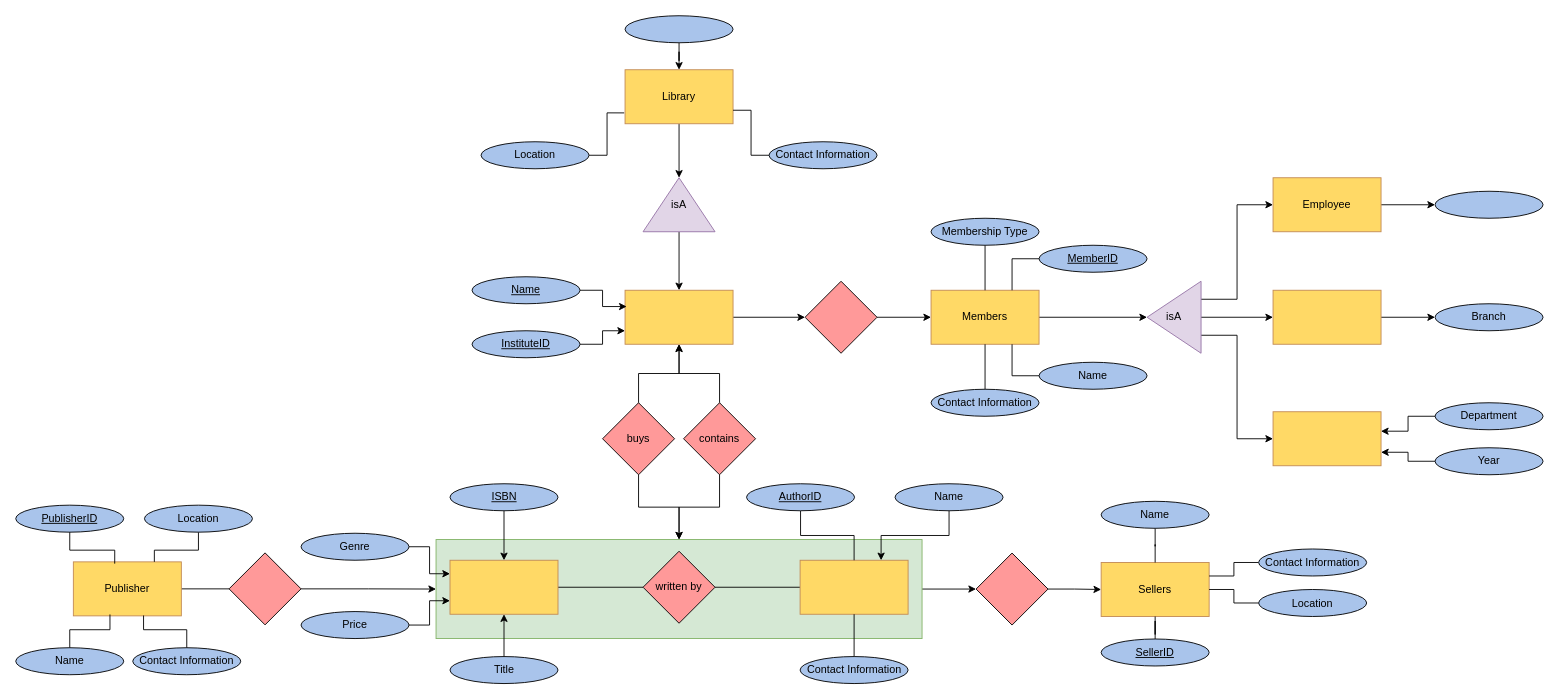
The diagram is 1559 pixels wide and 699 high, and some of its shapes have lost their labels. Here are the shapes that lost their labels. From the top down, the box of each, then its label:
(624, 15, 733, 43): LibraryID
(1434, 190, 1543, 218): experience
(624, 289, 733, 344): Institute Libraries
(804, 280, 877, 353): has
(1272, 289, 1381, 344): Student
(1272, 411, 1381, 466): Teacher
(228, 552, 301, 625): publish
(449, 559, 558, 614): Books
(799, 559, 908, 614): Authors
(975, 552, 1048, 625): sold by
